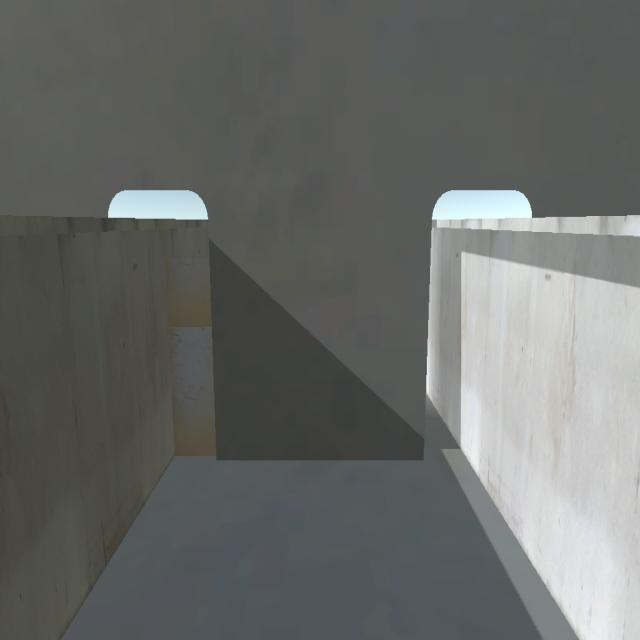fillet_yong_jeop_jang: (213, 452, 431, 466)
longi_yong_jeop_jang: (160, 258, 182, 462)
plate_behind: (163, 261, 216, 459)
